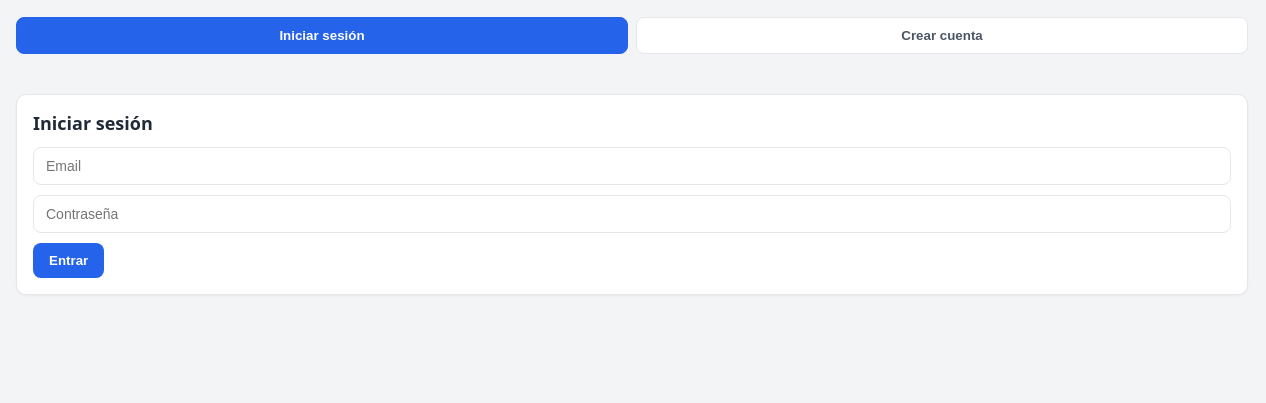
Test case: Auth › si el registro falla muestra el mensaje de error del backend
The width and height of the screenshot is (1266, 403).
Click the button "Crear cuenta" at (942, 36), box x1=636 y1=17 x2=1248 y2=54
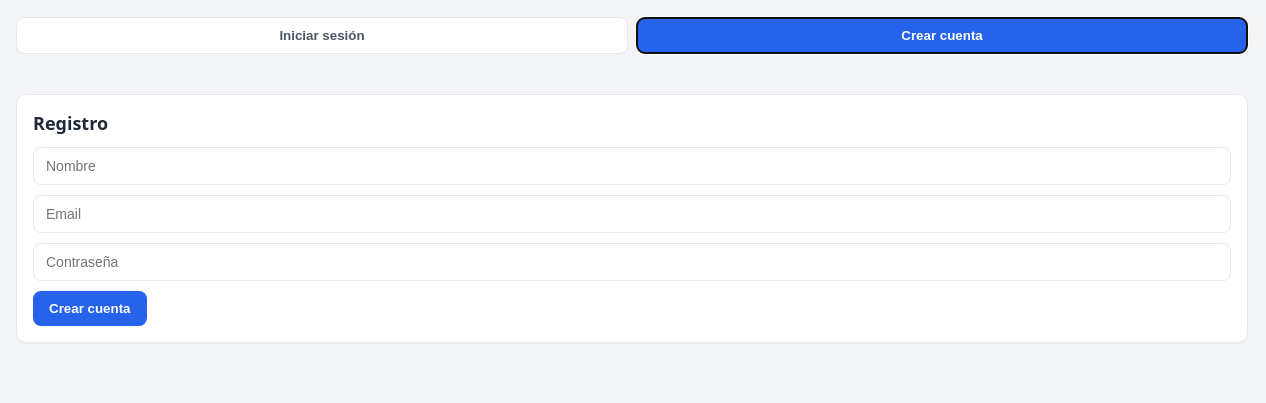
Type "Sergio" into the field with placeholder "Nombre" at (632, 166), box x1=33 y1=147 x2=1231 y2=185
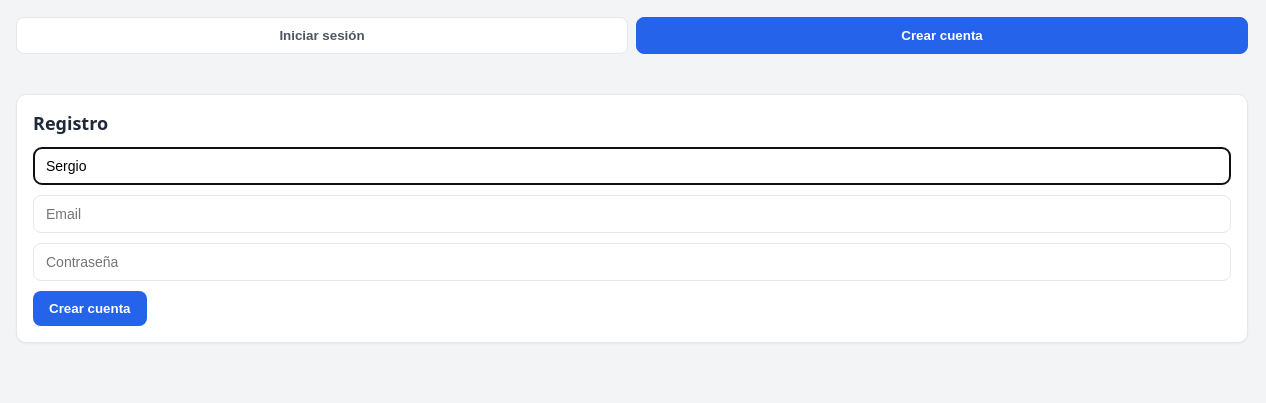
Type "repetido@test.com" into the field with placeholder "Email" at (632, 214), box x1=33 y1=195 x2=1231 y2=233
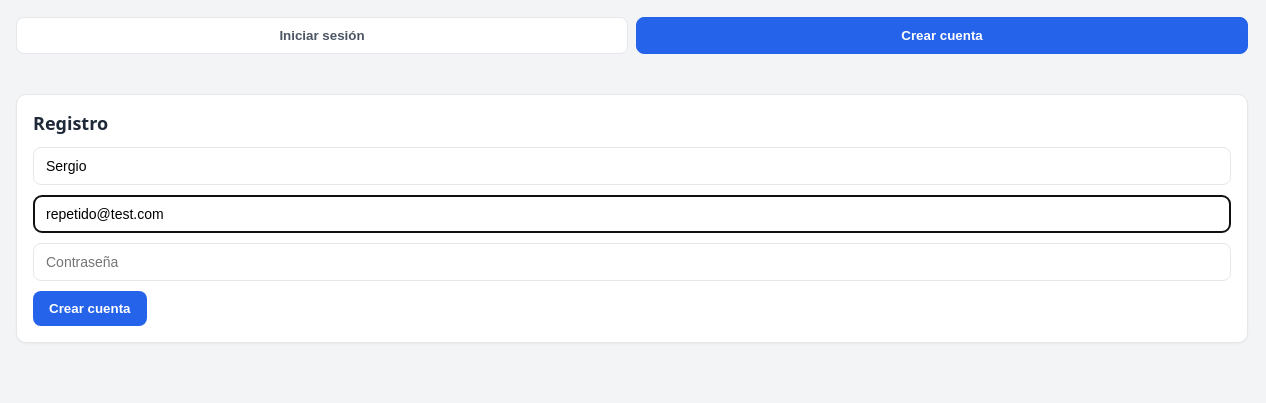
Type "123456" into the password field with placeholder "Contraseña" at (632, 262), box x1=33 y1=243 x2=1231 y2=281
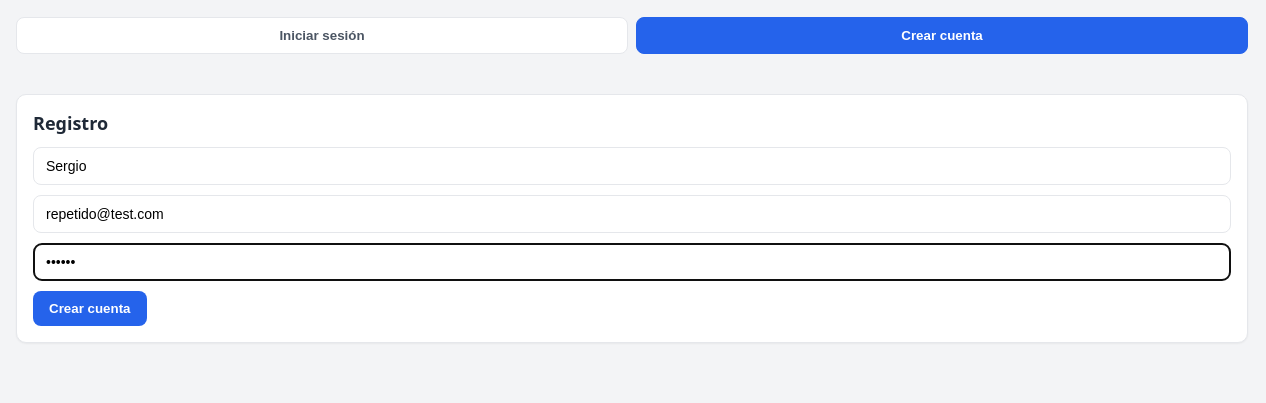
Click the button "Crear cuenta" below "Registro" at (90, 308), box x1=33 y1=291 x2=146 y2=326
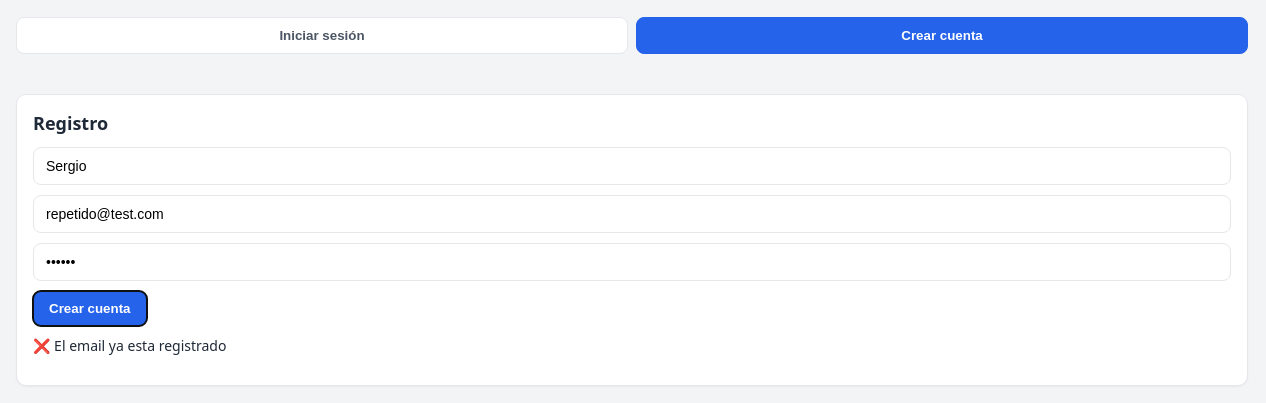
Check: the text "❌ El email ya esta registrado" is shown, box x1=33 y1=336 x2=226 y2=355
